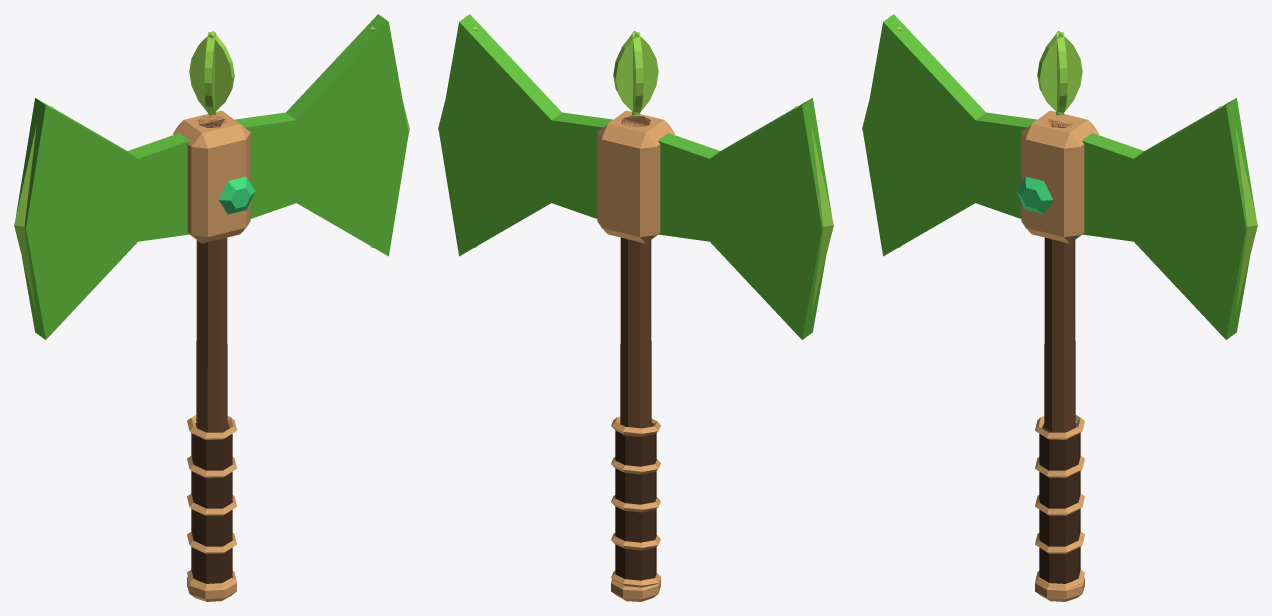
File: NatureAxe.fbx
The picture shows the model from 3 angles, left to right: view 1: azimuth 30°, elevation 25°; view 2: azimuth 150°, elevation 25°; view 3: azimuth 330°, elevation 25°; orthographic projection.
Parts seen in each view (by area): view 1: NatureAxe; view 2: NatureAxe; view 3: NatureAxe.
Part boxes in pixels (x1,y1,x2,y2): NatureAxe: (14, 14, 409, 601); NatureAxe: (438, 14, 833, 601); NatureAxe: (862, 14, 1257, 601).
Size of the model in its own units: 3 by 4.07 by 0.58.
Materials: 1 (1 with a texture image).
